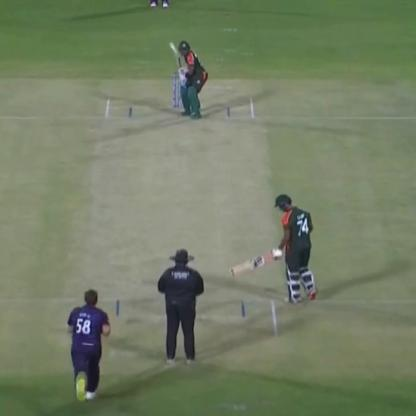bat: (220, 244, 287, 279), (162, 31, 192, 83)
pitch: (81, 93, 288, 350)
